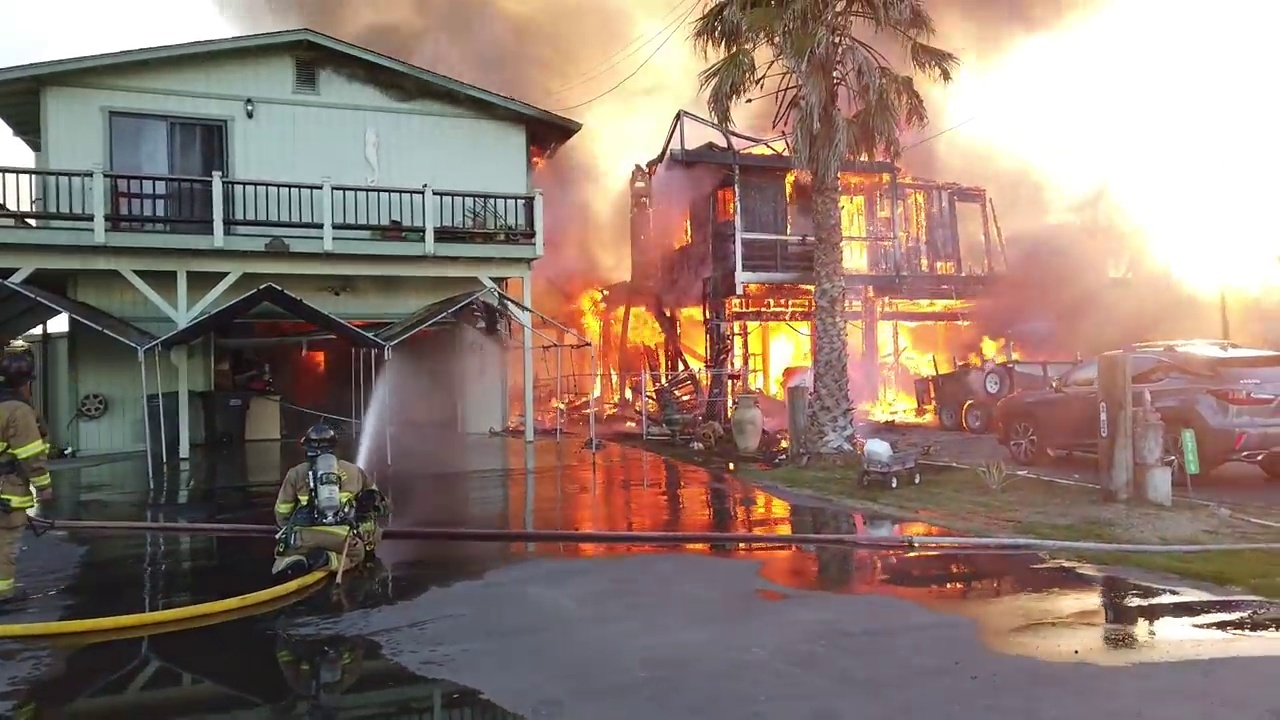fire: (947, 2, 1279, 354), (561, 236, 1019, 416), (1161, 219, 1279, 301), (829, 146, 908, 267), (755, 318, 811, 389), (1173, 335, 1255, 356), (777, 159, 812, 202), (924, 247, 962, 274), (668, 210, 695, 247), (297, 344, 325, 372), (528, 141, 549, 167)
smoke: (490, 1, 669, 291)
